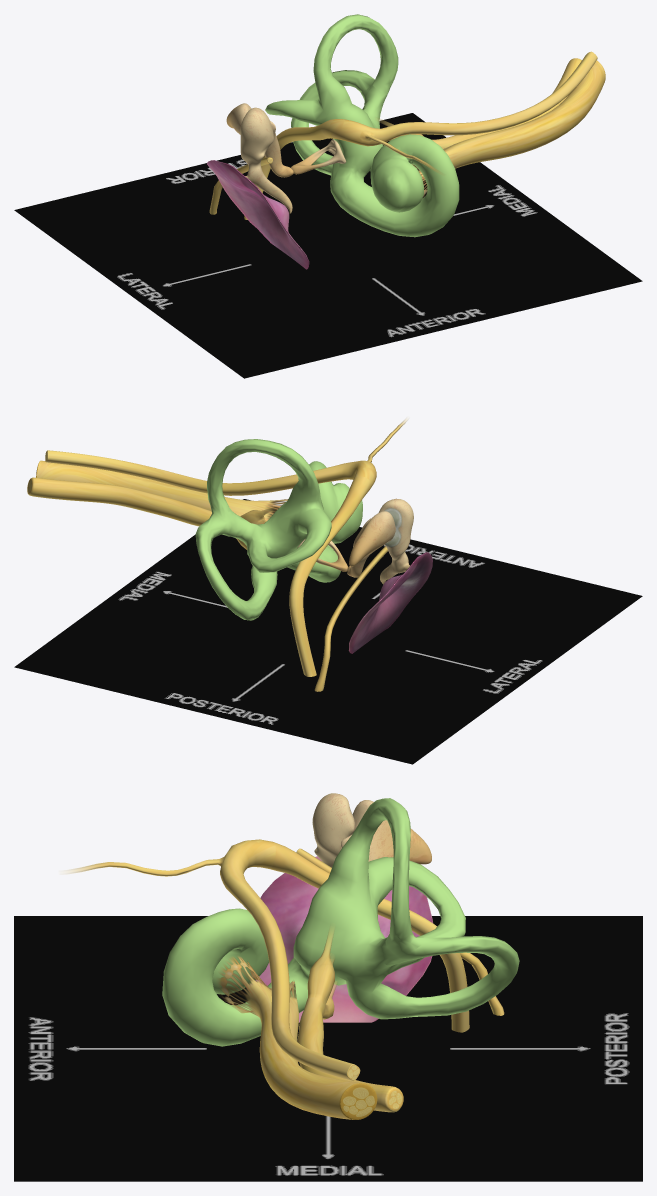
File: anatomy_of_the_inner_ear.glb
3 views of the same model, one above another, from view 1: azimuth 30°, elevation 25°; view 2: azimuth 150°, elevation 25°; view 3: azimuth 270°, elevation 25° (orthographic). The views are drawn at different scales.
Parts seen in each view (by area): view 1: Object_8, Object_10, Object_5, Object_11, Object_6, Object_7, Object_4, Object_9, Object_3; view 2: Object_8, Object_10, Object_5, Object_9, Object_11, Object_6, Object_7, Object_4; view 3: Object_8, Object_10, Object_5, Object_11, Object_6, Object_9, Object_7, Object_4.
Boxes of the visible parts, <box> form: Object_8: <box>14,113,642,378</box>; Object_10: <box>265,14,459,237</box>; Object_5: <box>209,51,597,219</box>; Object_11: <box>412,60,605,196</box>; Object_6: <box>207,160,309,269</box>; Object_7: <box>240,107,292,213</box>; Object_4: <box>226,103,293,177</box>; Object_9: <box>377,58,581,148</box>; Object_3: <box>291,139,346,174</box>; Object_8: <box>14,499,642,764</box>; Object_10: <box>195,439,362,620</box>; Object_5: <box>46,419,407,691</box>; Object_9: <box>27,477,276,549</box>; Object_11: <box>36,460,287,522</box>; Object_6: <box>348,552,432,653</box>; Object_7: <box>378,498,413,584</box>; Object_4: <box>347,511,395,577</box>; Object_8: <box>14,916,642,1181</box>; Object_10: <box>162,798,519,1046</box>; Object_5: <box>66,839,504,1080</box>; Object_11: <box>217,956,377,1119</box>; Object_6: <box>250,856,432,1022</box>; Object_9: <box>297,928,403,1112</box>; Object_7: <box>312,793,354,867</box>; Object_4: <box>341,800,431,864</box>.
Bounding box in the file's own units: 17.52 × 9.25 × 14.52.
Materials: 10 (9 with a texture image).
